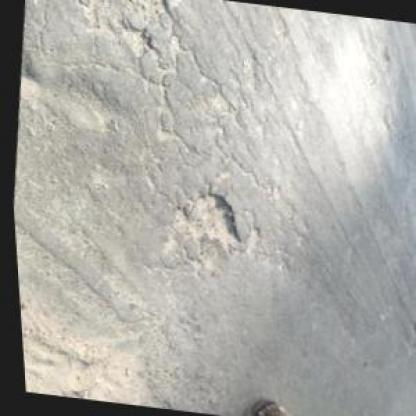pothole: (169, 189, 246, 258), (116, 21, 154, 60)
